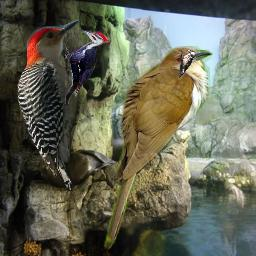Cuckoo: (103, 46, 213, 250)
Woodpecker: (15, 19, 92, 191), (65, 30, 112, 107), (179, 48, 196, 80)
